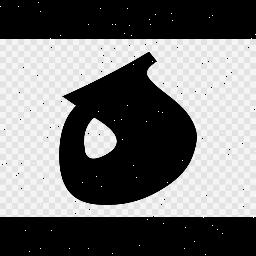o: (77, 116, 123, 168)
